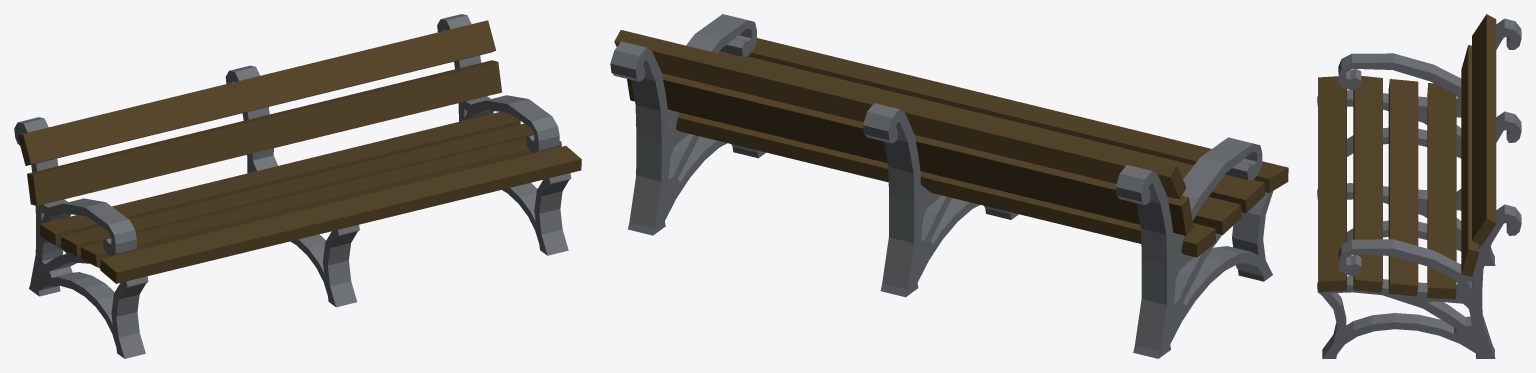
The model's file is Bench.fbx.
The picture shows the model from 3 angles, left to right: view 1: azimuth 30°, elevation 25°; view 2: azimuth 150°, elevation 25°; view 3: azimuth 270°, elevation 25°; orthographic projection. The views are drawn at different scales.
Parts seen in each view (by area): view 1: Bench; view 2: Bench; view 3: Bench.
Boxes of the visible parts, x1,y1,x2,y2 form: Bench: [14, 14, 581, 358]; Bench: [610, 14, 1288, 358]; Bench: [1317, 14, 1521, 358].
Bounding box in the file's own units: 282 × 93.33 × 119.
